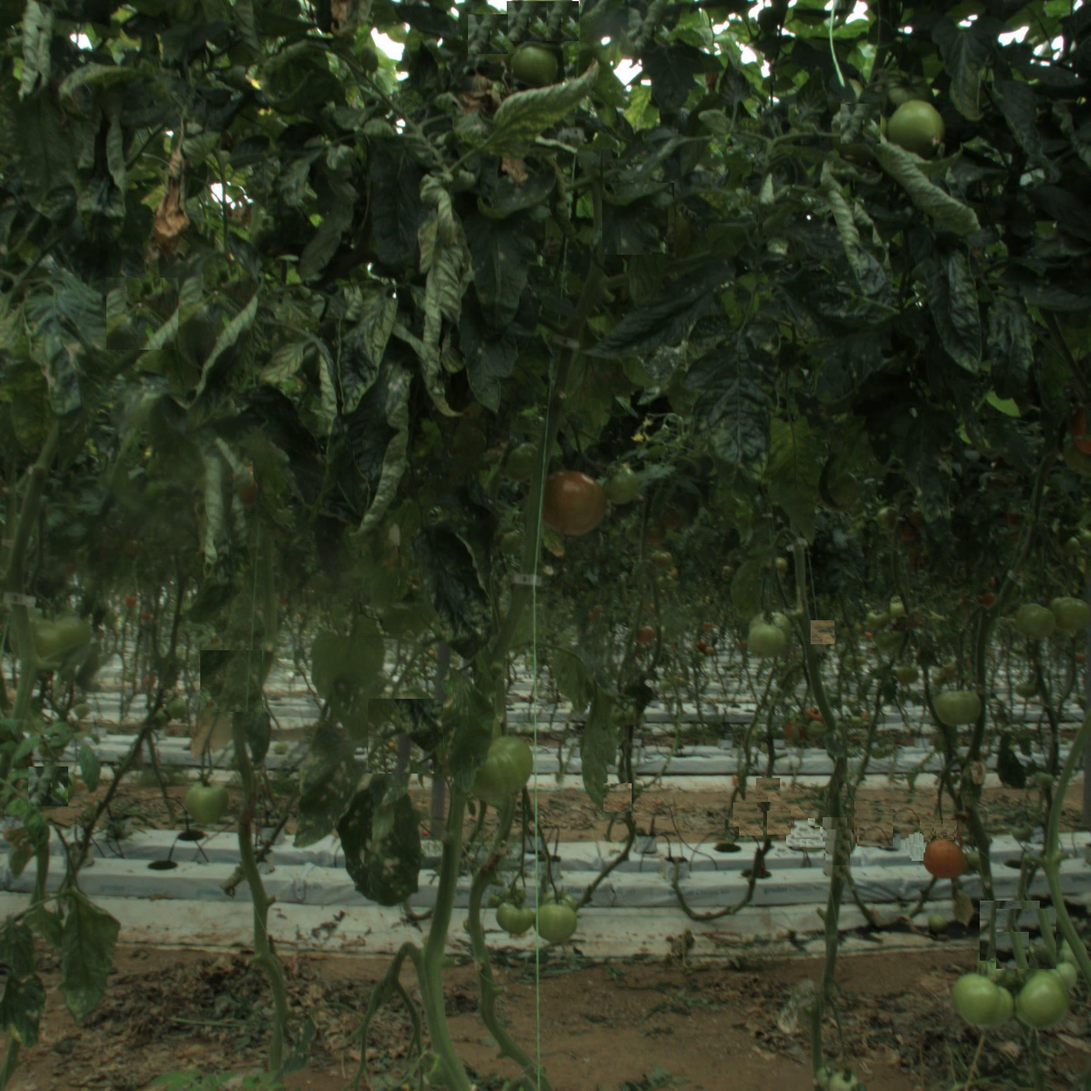fully-ripe: (924, 840, 963, 879)
semi-ripe: (535, 469, 603, 538)
unripe: (951, 968, 1014, 1031), (473, 738, 530, 794), (889, 101, 944, 156), (1015, 970, 1070, 1024), (744, 609, 794, 660), (532, 899, 577, 944), (512, 45, 556, 90), (934, 686, 979, 730), (1050, 592, 1090, 632), (1015, 601, 1055, 641), (187, 783, 226, 822), (499, 900, 532, 933)
